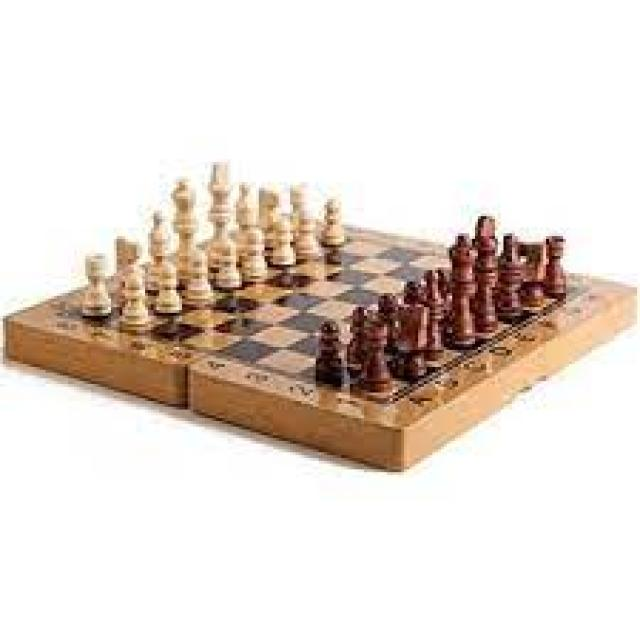schaak: (7, 158, 640, 476)
